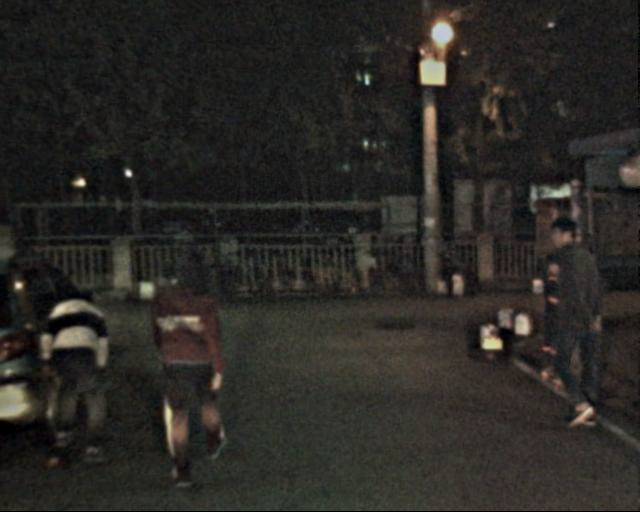person: (146, 243, 237, 485), (536, 213, 613, 440), (42, 279, 122, 465)
